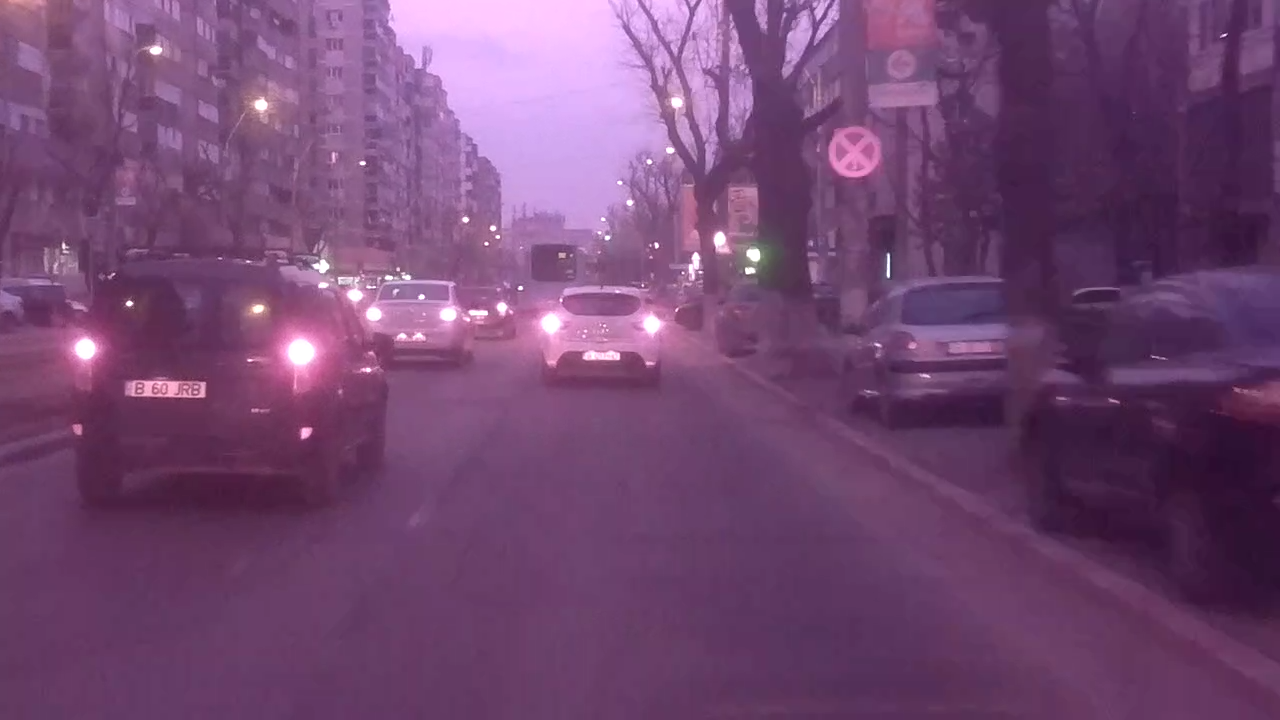license-plate: (119, 377, 209, 400)
